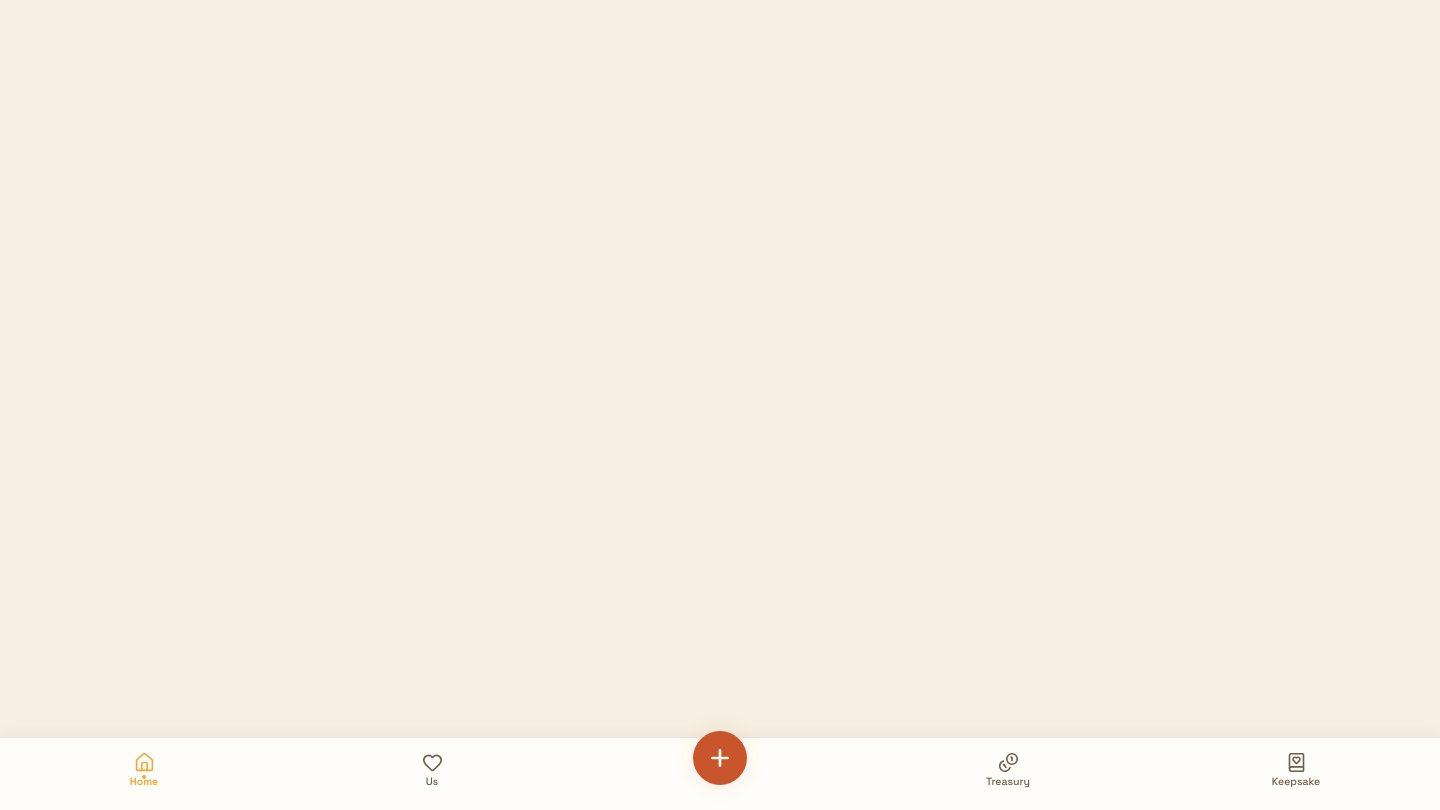
Test: BottomNav › opens the Create sheet with all 6 actions when the Create button is clicked
This screenshot has width=1440, height=810.
Click the button with test id "nav-create-btn": (720, 758) [693, 731, 747, 785]
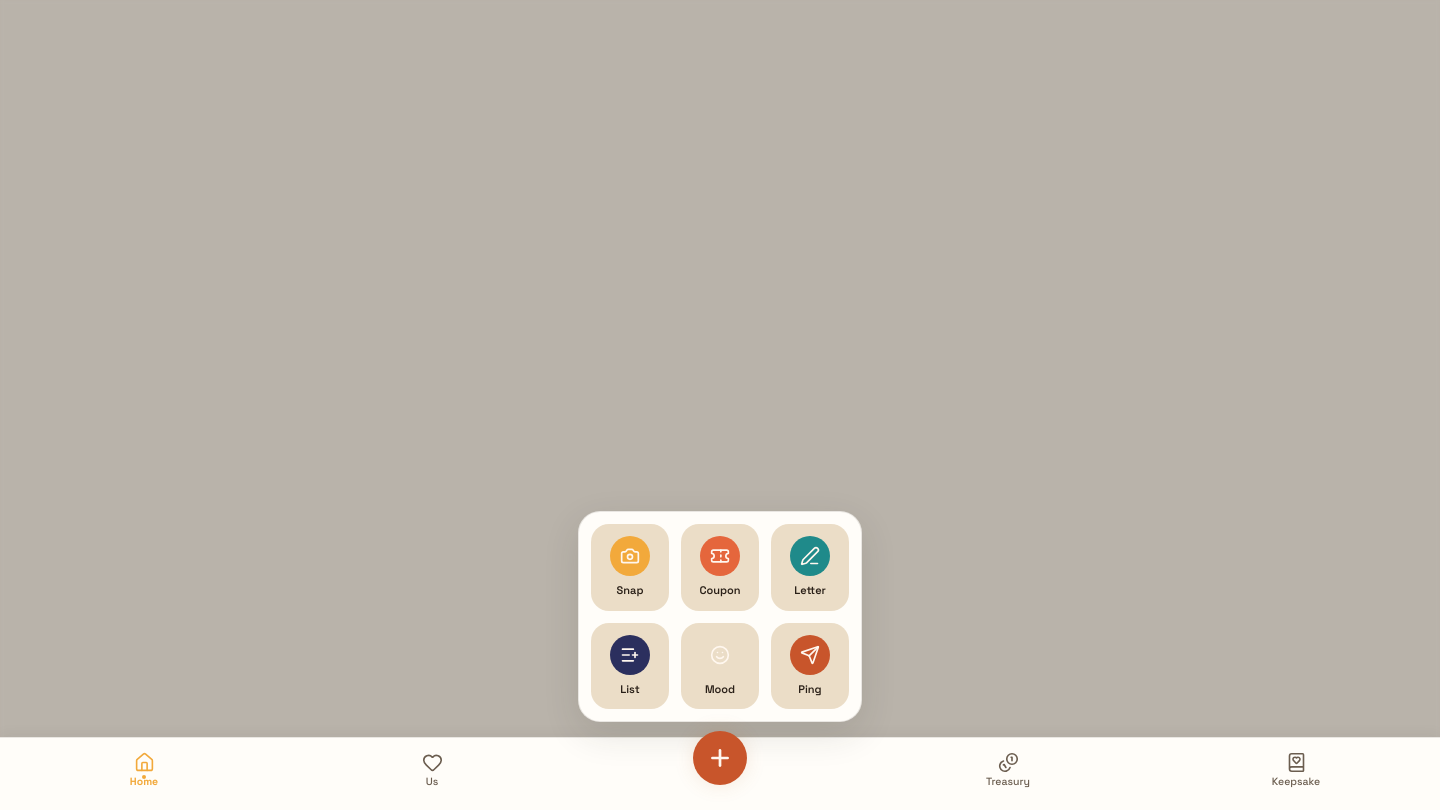
Check: the link with test id "create-snap" is shown, box [591, 524, 669, 610]
Check: the link with test id "create-coupon" is shown, box [681, 524, 759, 610]
Check: the link with test id "create-letter" is shown, box [771, 524, 849, 610]
